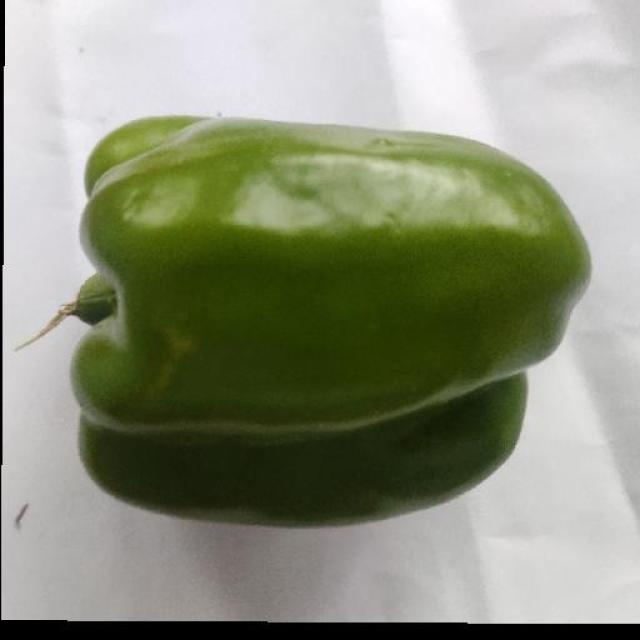Fresh_Capsicum: (61, 107, 584, 534)
